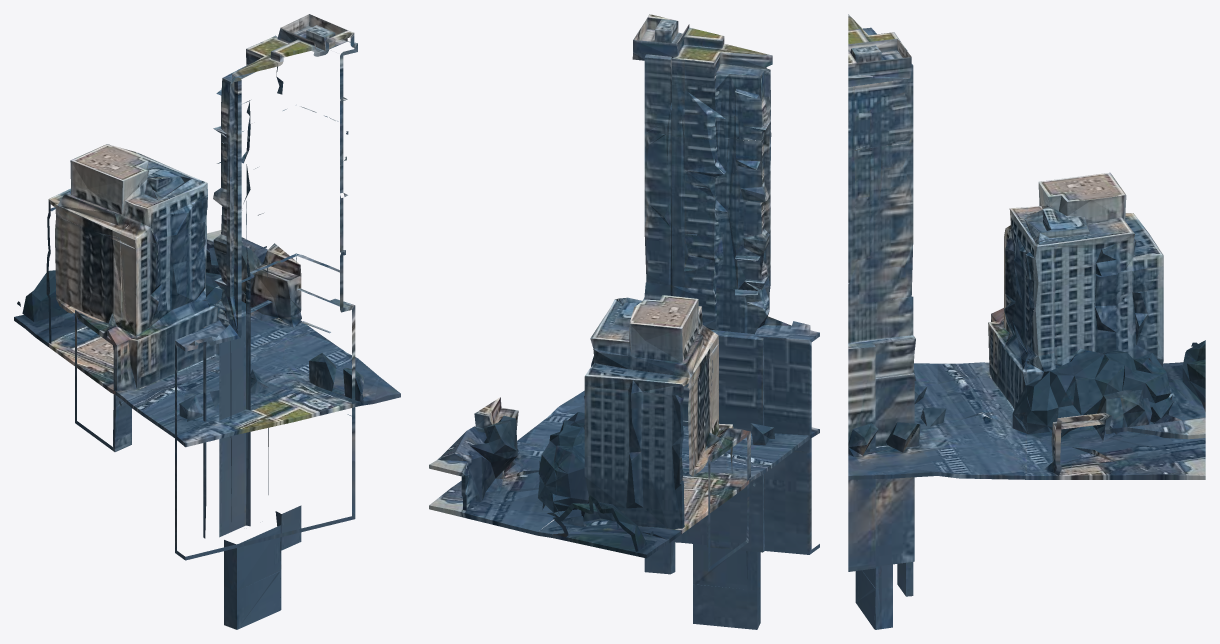
Rendered from chunk_8_2.glb.
3 views of the same model, side by side, from view 1: azimuth 30°, elevation 25°; view 2: azimuth 150°, elevation 25°; view 3: azimuth 270°, elevation 25° (orthographic). The views are drawn at different scales.
Visible parts, largest first — view 1: hero-chunk; view 2: hero-chunk; view 3: hero-chunk.
Boxes of the visible parts, left/top/right/bottom form: hero-chunk: left=14, top=14, right=400, bottom=629; hero-chunk: left=429, top=14, right=819, bottom=629; hero-chunk: left=848, top=14, right=1205, bottom=629.
Size of the model in its own units: 55.43 by 141 by 76.33.
3 materials, 3 textured.
